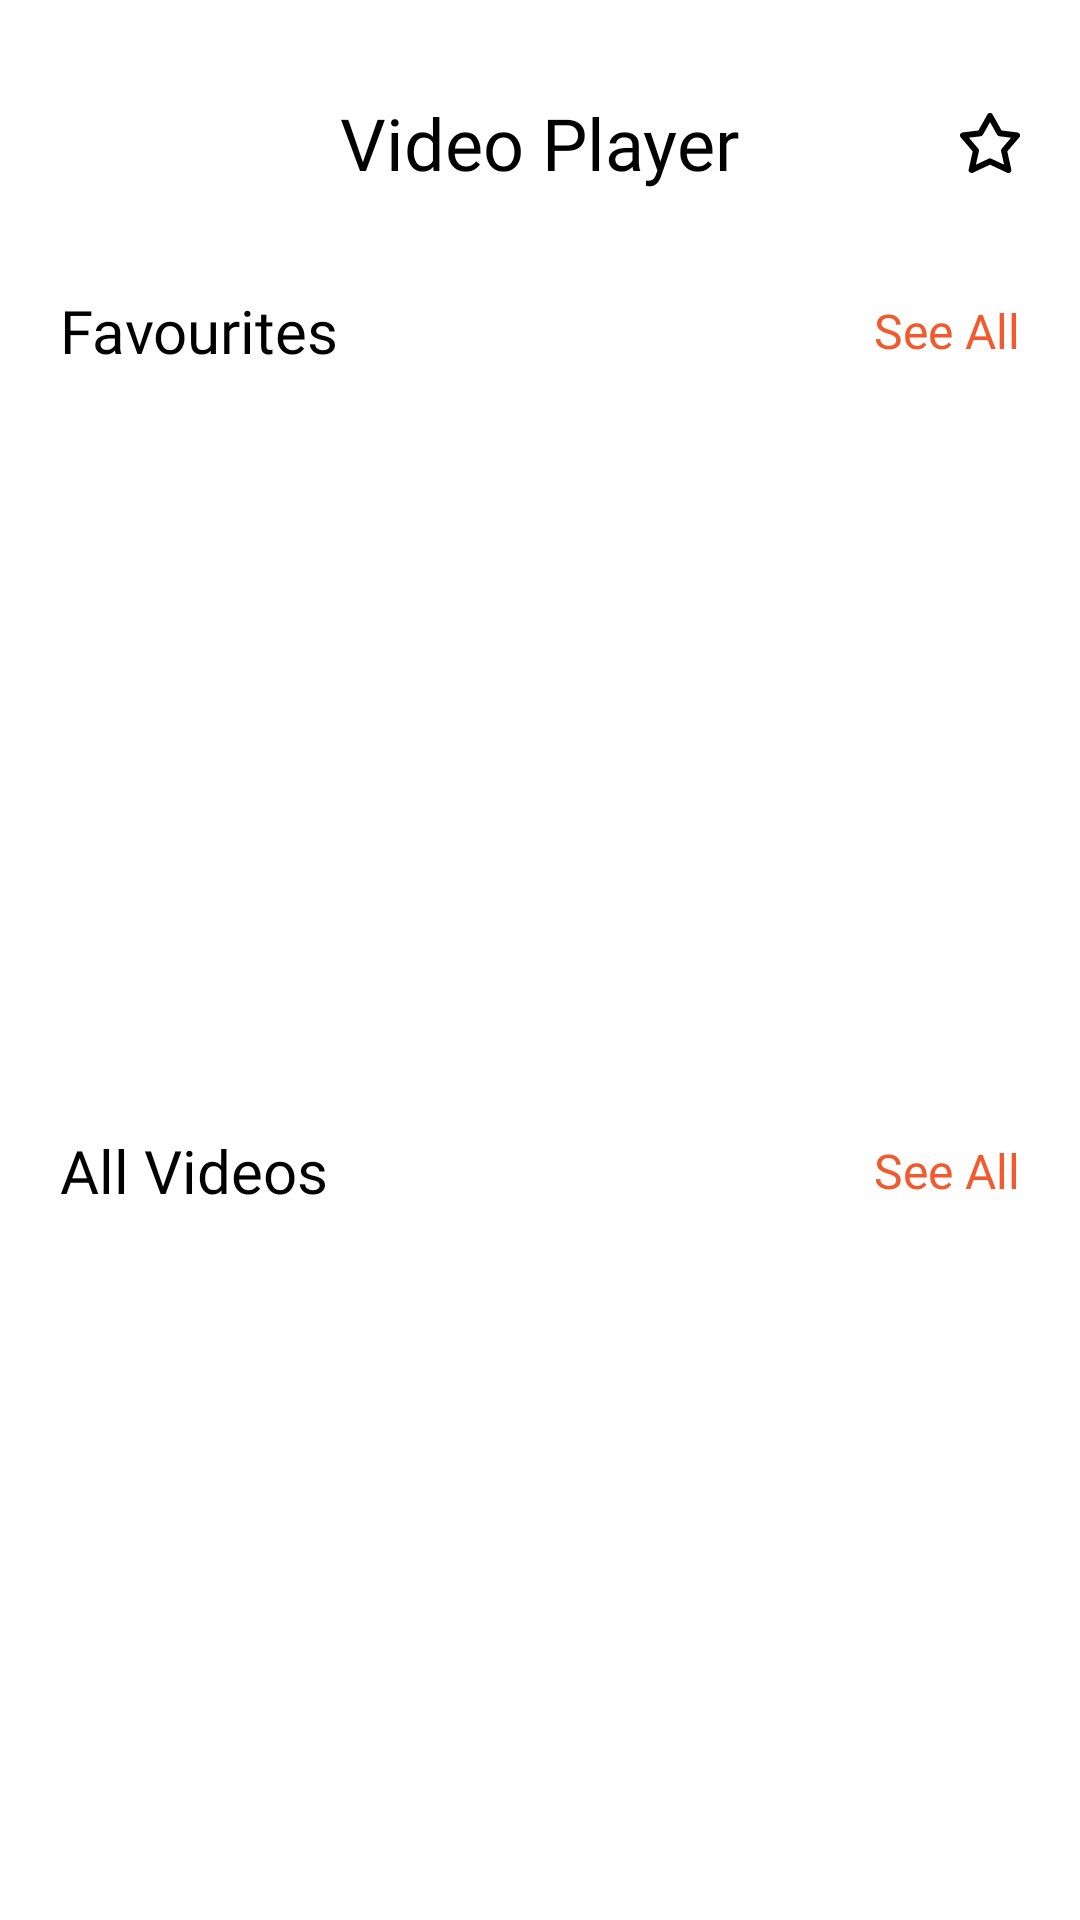

Named icons in this screenshot (1080 x 1920) and their bounding boxes, (x1, y1, x2, y2):
Star: (960, 113, 1020, 173)
